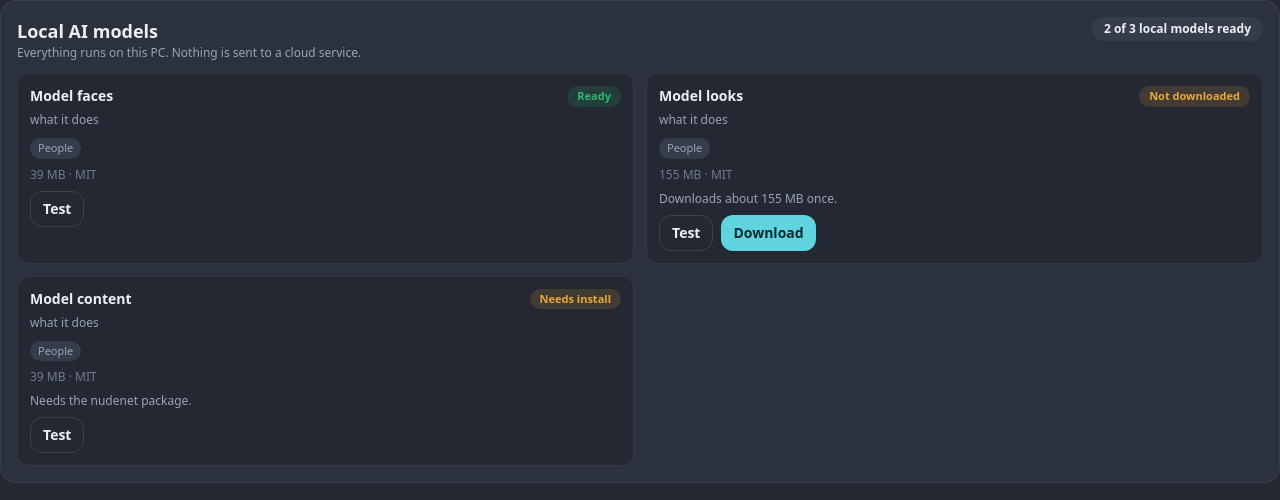
Test: Local AI models › a failing test says why
Step 1. Click the button "Test" below "Downloads about 155 MB once." → click(686, 232), box [659,214,713,250]
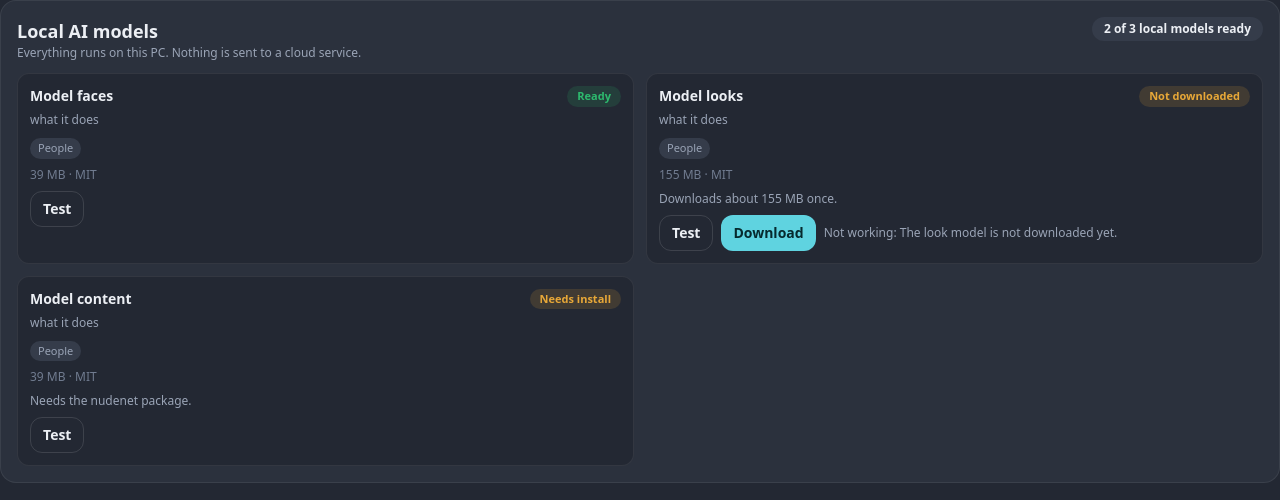
expect the text "Not working: The look model is not downloaded yet." is shown: met, box [824,224,1117,240]
